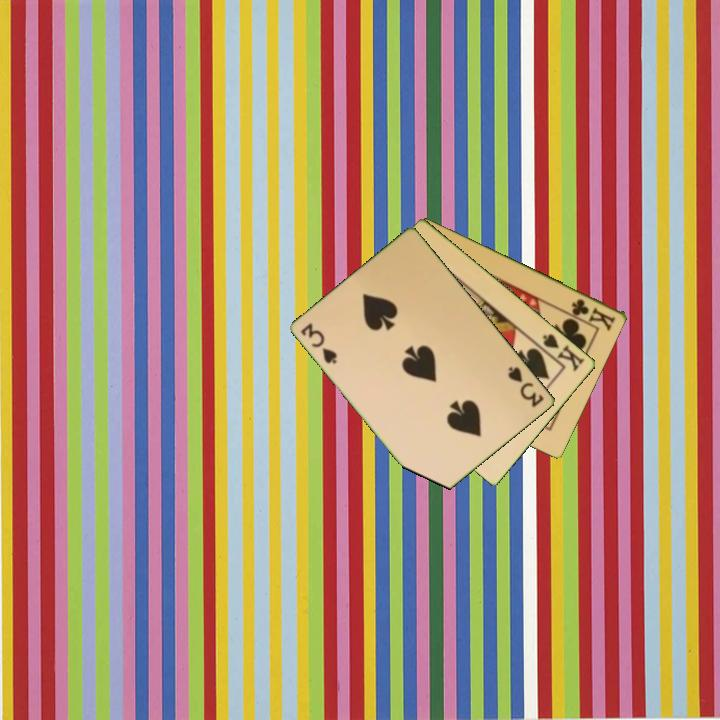3s: (298, 319, 340, 367), (505, 363, 547, 410)
Kc: (568, 295, 619, 333)
Ks: (534, 330, 588, 374)
